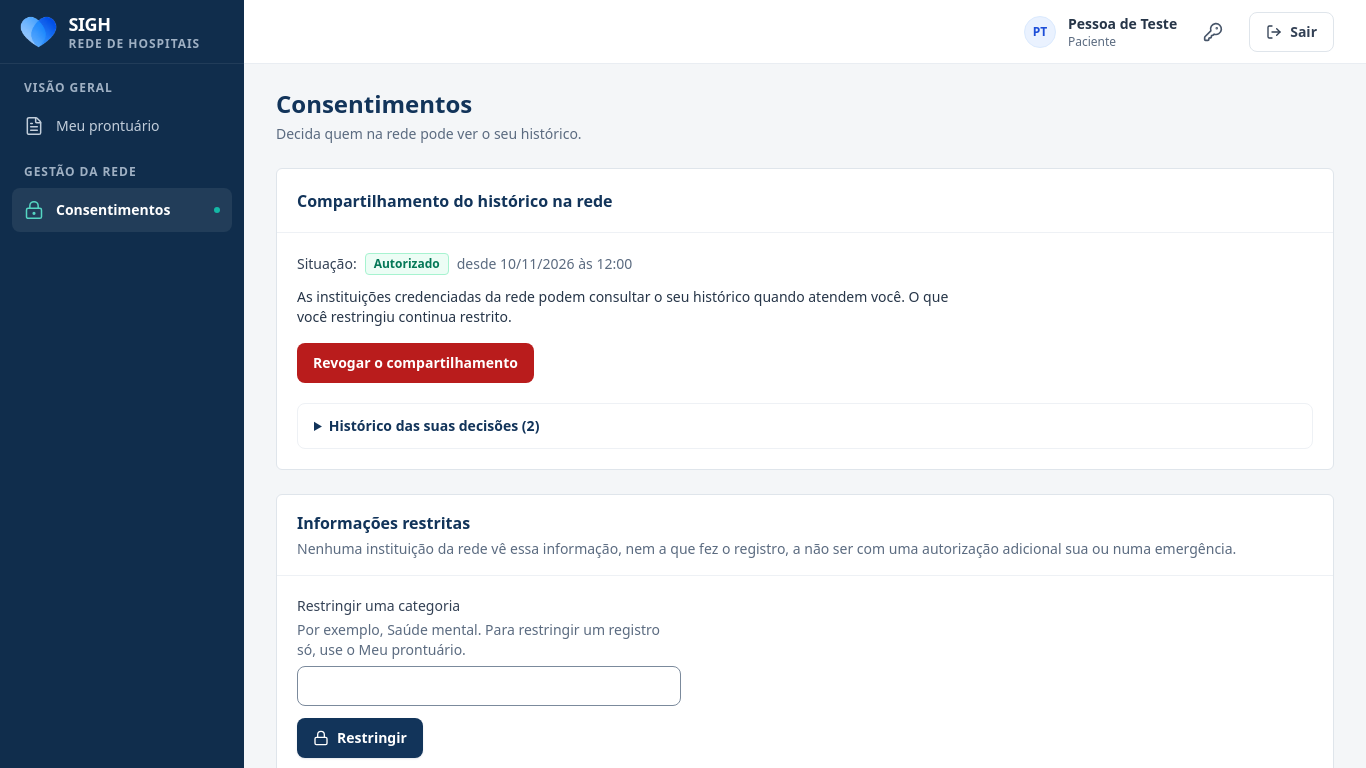
Test case: FE-05: Consentimentos — informações restritas (RF-009) › restringe uma categoria, com as do histórico como sugestão
Expected: the heading "Consentimentos" is shown, x1=276 y1=87 x2=472 y2=120
Click the button "Restringir" at [360, 738], box x1=297 y1=718 x2=423 y2=758
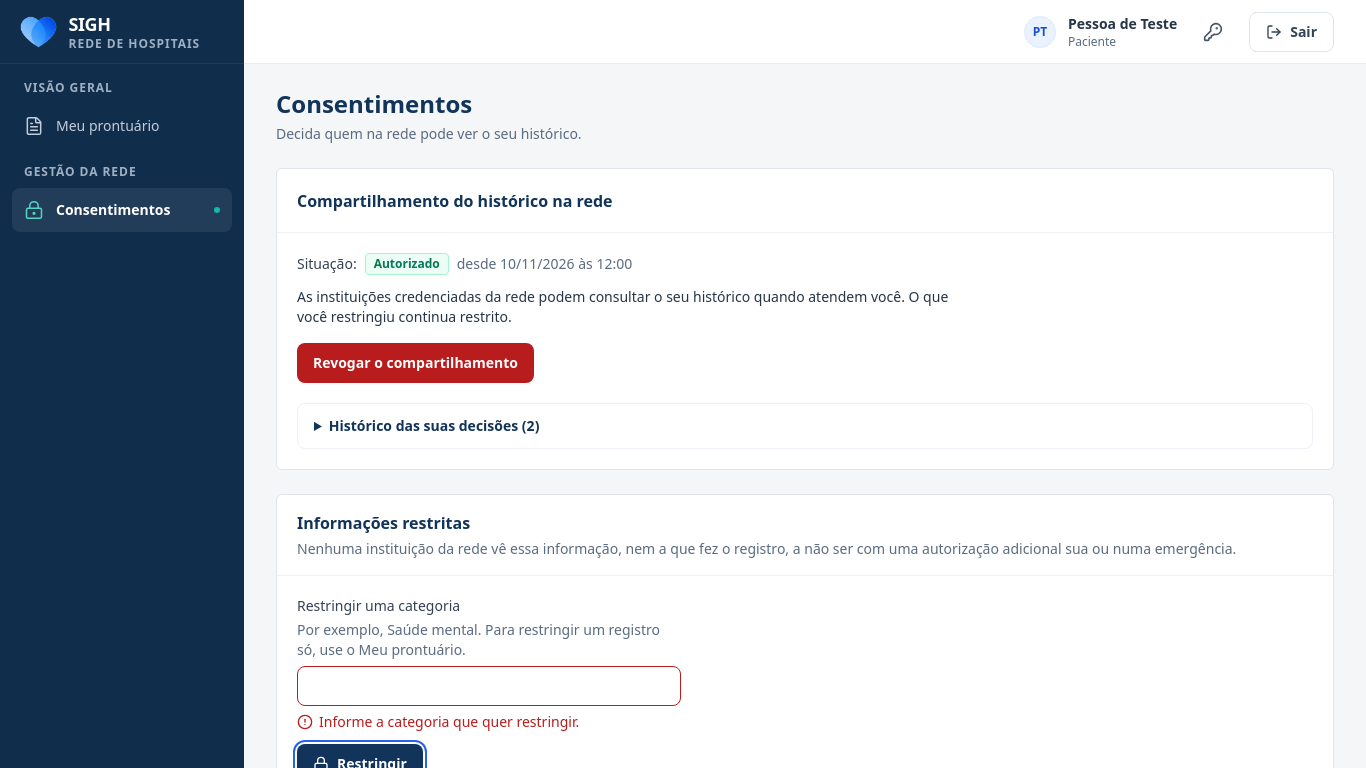
Type "  Uso de substâncias " into the field labelled "Restringir uma categoria" at [489, 686], box x1=297 y1=666 x2=681 y2=706
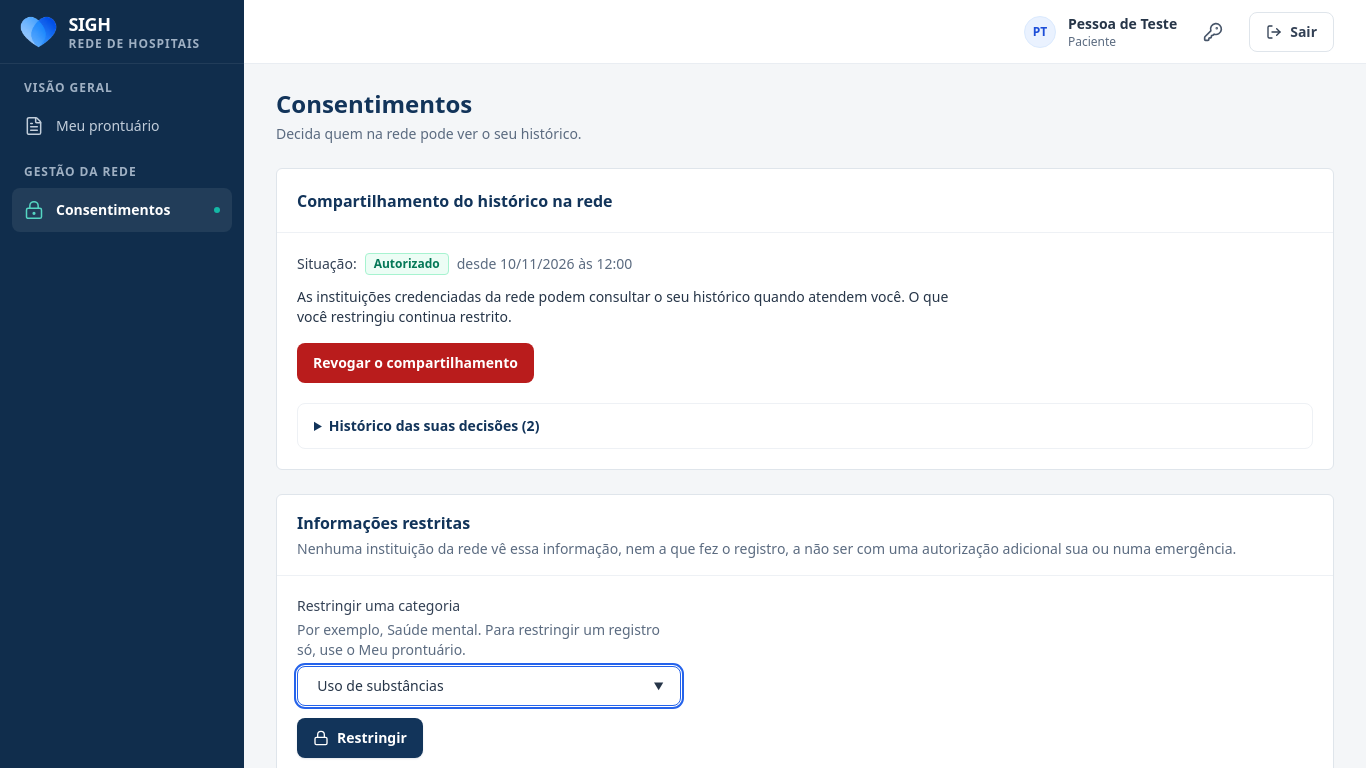
Click the button "Restringir" at [360, 738], box x1=297 y1=718 x2=423 y2=758
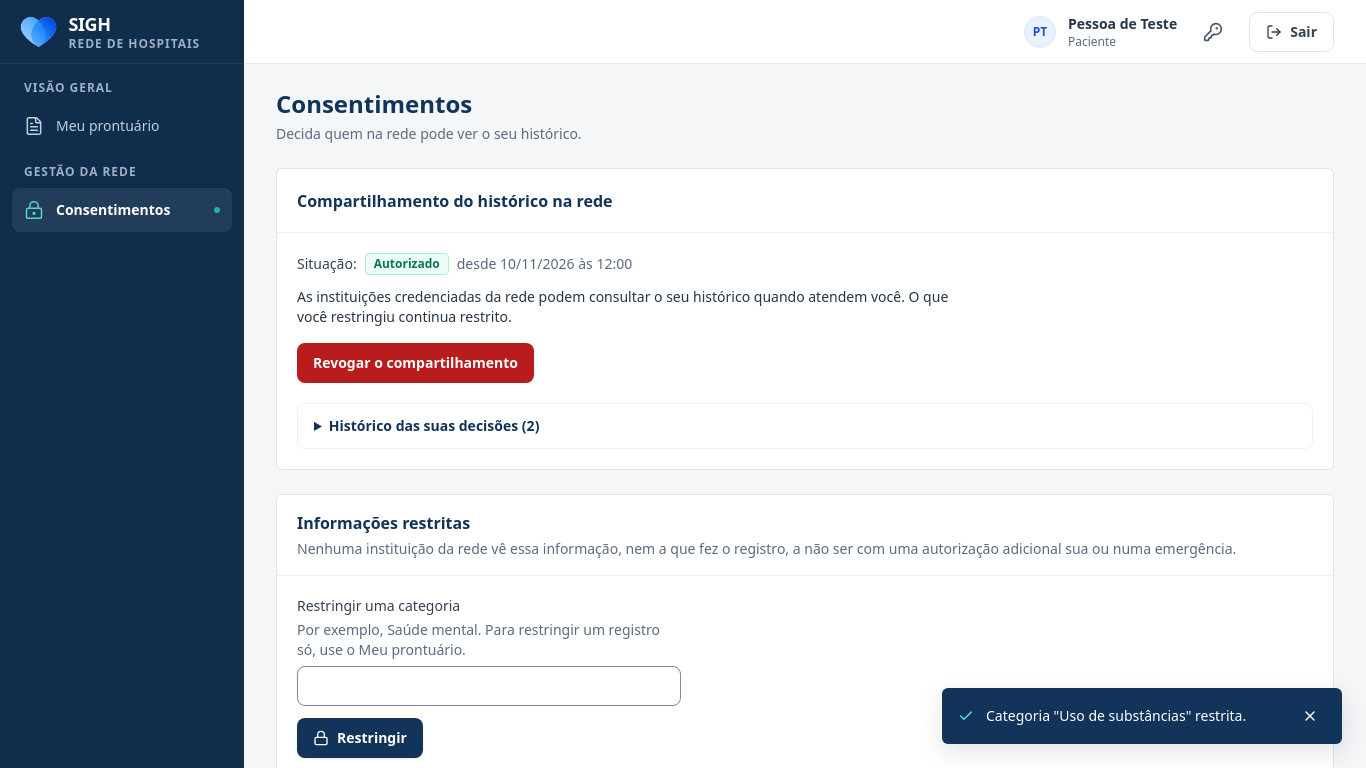
Expected: the text "Categoria \"Uso de substâncias\" restrita." is shown, x1=986 y1=706 x2=1282 y2=726
Expected: the field labelled "Restringir uma categoria" is empty, x1=297 y1=666 x2=681 y2=706
